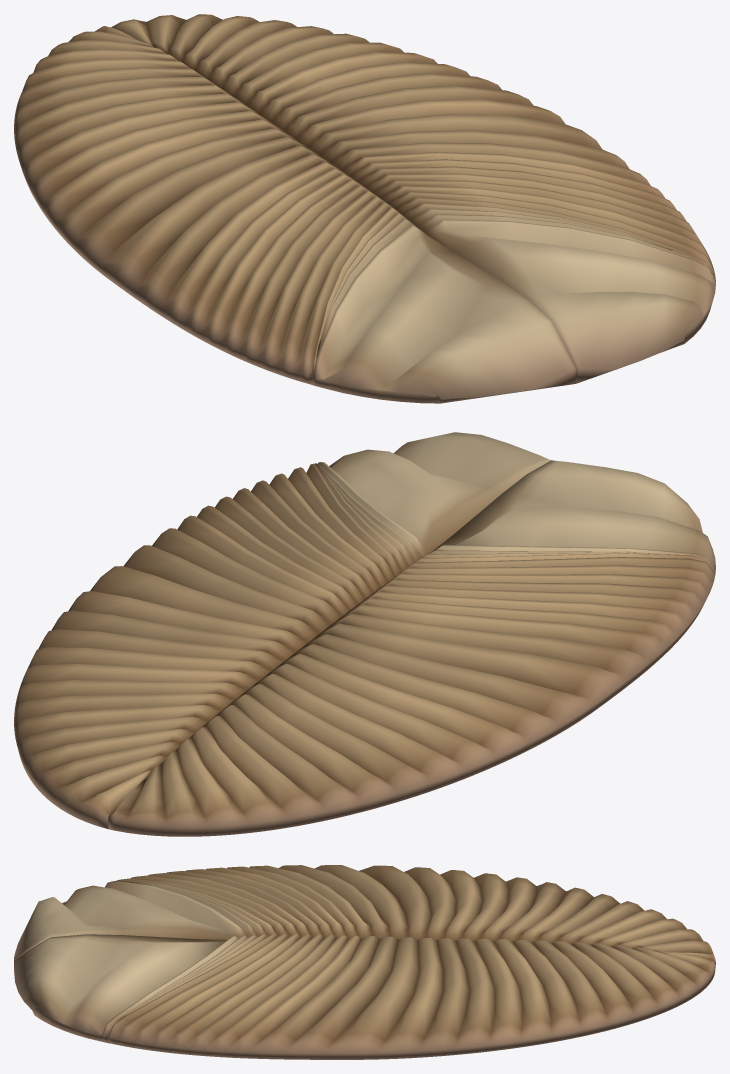
Rendered from Marywadea.fbx.
3 views of the same model, one above another, from view 1: azimuth 30°, elevation 25°; view 2: azimuth 150°, elevation 25°; view 3: azimuth 270°, elevation 25° (orthographic). The views are drawn at different scales.
Parts seen in each view (by area): view 1: Marywadea; view 2: Marywadea; view 3: Marywadea.
Boxes of the visible parts, x1,y1,x2,y2 form: Marywadea: (14,14,715,403); Marywadea: (14,432,715,836); Marywadea: (14,865,715,1059).
Size of the model in its own units: 1 by 0.1084 by 1.64.
